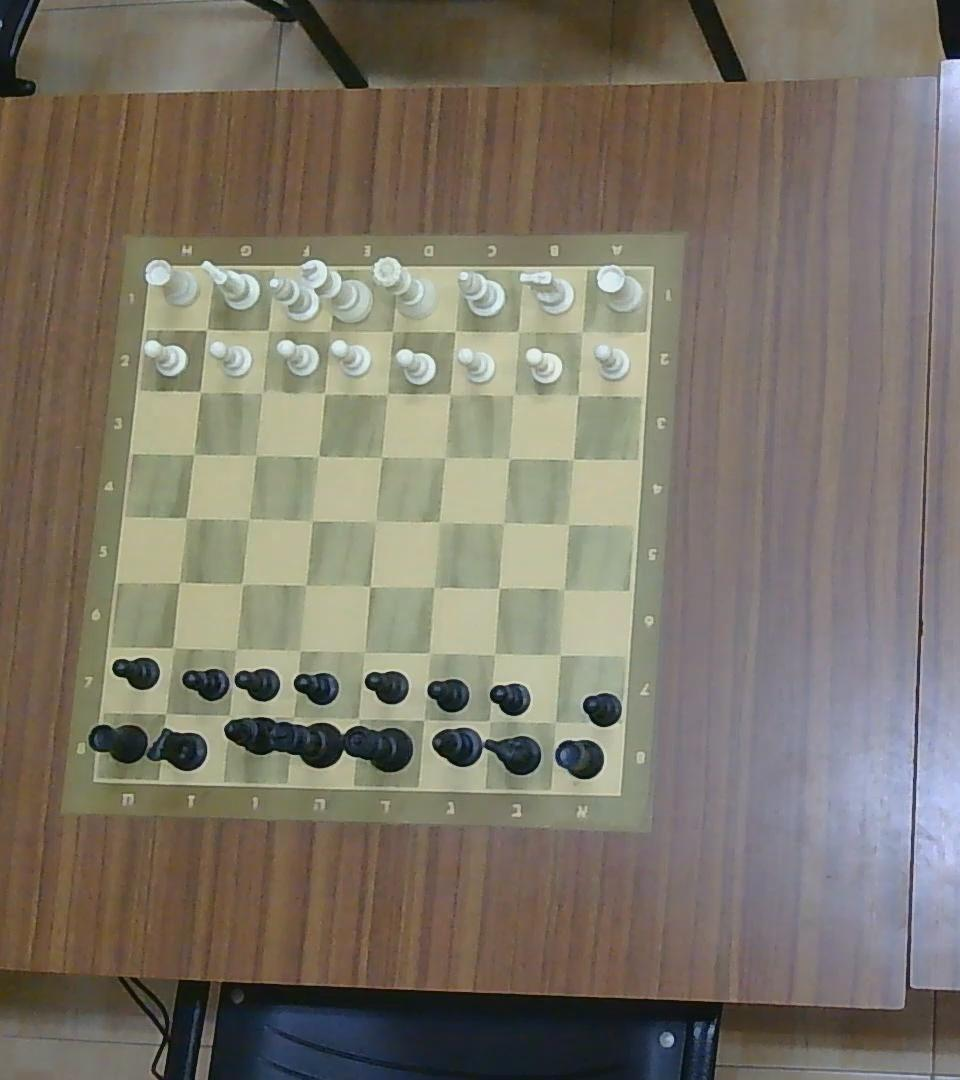xcorner: (345, 708, 370, 732), (154, 701, 178, 725), (217, 703, 240, 727), (477, 709, 501, 731), (319, 319, 341, 341), (544, 712, 568, 732), (288, 639, 310, 659), (277, 710, 302, 727), (413, 710, 434, 730), (365, 511, 386, 531), (169, 572, 189, 592), (246, 445, 266, 465), (225, 639, 245, 659), (183, 443, 202, 464), (164, 637, 183, 658), (440, 383, 459, 403), (483, 645, 503, 664), (423, 577, 442, 597), (504, 383, 523, 403), (429, 511, 448, 531), (296, 574, 315, 593), (196, 319, 215, 338), (259, 319, 278, 338), (382, 321, 401, 340), (354, 642, 374, 660), (315, 383, 333, 402), (371, 447, 389, 466), (377, 383, 395, 402), (361, 577, 379, 596), (177, 508, 195, 527), (446, 321, 464, 340), (559, 515, 578, 533), (573, 321, 591, 340), (510, 321, 528, 340), (495, 513, 513, 532), (421, 643, 439, 662), (233, 574, 251, 593), (570, 385, 588, 404), (489, 579, 507, 598), (550, 645, 568, 664), (555, 579, 573, 598), (500, 448, 518, 466), (190, 382, 208, 400), (253, 382, 271, 400), (240, 510, 258, 528), (303, 510, 320, 529), (435, 448, 453, 465), (309, 446, 326, 464), (564, 450, 582, 467)
